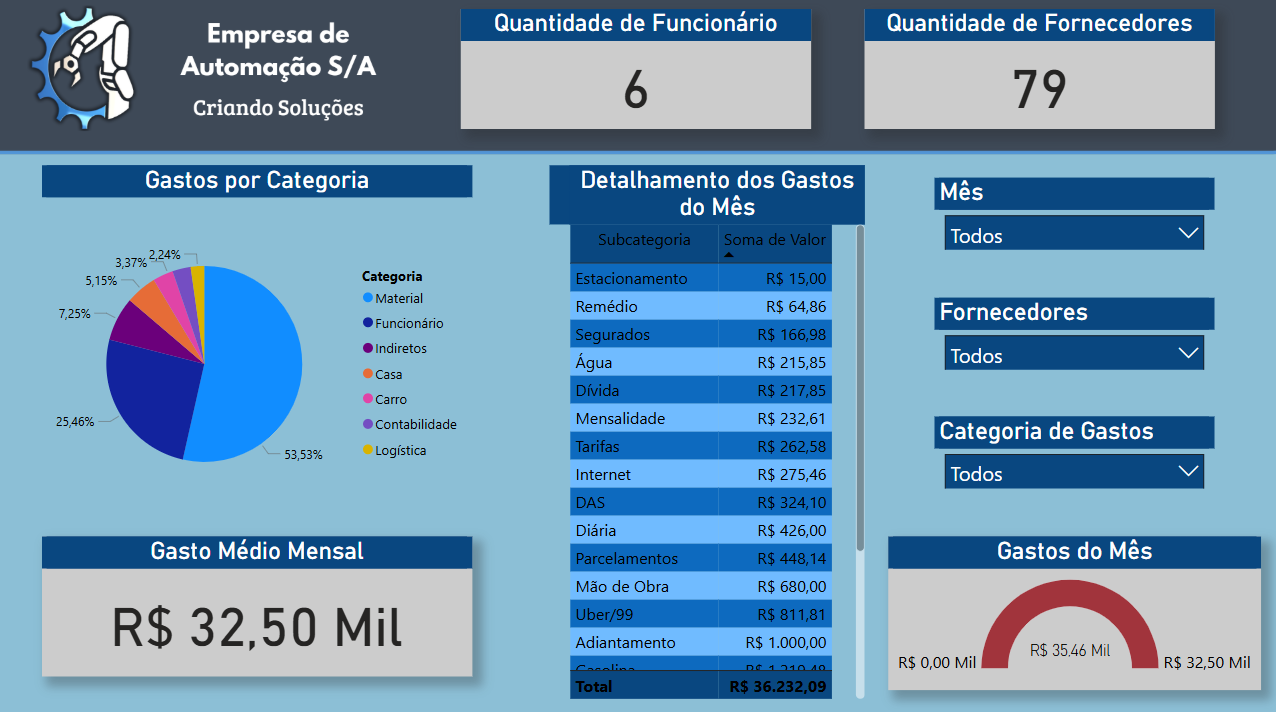

Layout of this report page (visuals, bound fields, positions):
{"tool":"powerbi","page":{"name":"Gastos","canvas":[1280,720],"ordinal":1},"visuals":[{"type":"card","title":"Gasto Médio Mensal","fields":{"Values":["Balanceamento.Média de Saídas"]},"box":[45.4,537.4,430,140],"z":0},{"type":"slicer","title":"Mês","fields":{"Values":["Geral.Mês"]},"box":[937.7,179.1,279.8,72.4],"z":1000},{"type":"pieChart","title":"Gastos por Categoria","fields":{"Category":["Gasto Mensal.Categoria"],"Y":["Gasto Mensal.Valor"]},"box":[45.4,166.9,430,370.6],"z":2000},{"type":"slicer","title":"Fornecedores","fields":{"Values":["Gasto Mensal.Fornecedor"]},"box":[937.7,298.6,279.8,72.4],"z":3000},{"type":"slicer","title":"Categoria de Gastos","fields":{"Values":["Gasto Mensal.Categoria"]},"box":[937.7,418,279.8,72.4],"z":4000},{"type":"gauge","title":"Gastos do Mês","fields":{"Y":["Balanceamento.Saídas"],"MaxValue":["Balanceamento.Média de Saídas"]},"box":[890.8,537.4,373,153.4],"z":5000},{"type":"tableEx","title":"Detalhamento dos Gastos do Mês","fields":{"Values":["Gasto Mensal.Subcategoria","Gasto Mensal.Valor"]},"box":[552.2,166.9,315.3,538.7],"z":6000},{"type":"card","title":"Quantidade de Funcionário","fields":{"Values":["Funcionários.Nome"]},"box":[464.1,10.3,350,120],"z":7000},{"type":"card","title":"Quantidade de Fornecedores","fields":{"Values":["Gasto Mensal.Fornecedor"]},"box":[867.5,9.8,350,120],"z":8000}]}

Visuals, with their boxes in screenshot pixels (x1, y1, x2, y2), scaled from the page's 1280x720 canvas onto the 1276x712 screenshot:
"Gasto Médio Mensal" card: [45, 531, 474, 670]
"Mês" slicer: [935, 177, 1214, 249]
"Gastos por Categoria" pieChart: [45, 165, 474, 532]
"Fornecedores" slicer: [935, 295, 1214, 367]
"Categoria de Gastos" slicer: [935, 413, 1214, 485]
"Gastos do Mês" gauge: [888, 531, 1260, 683]
"Detalhamento dos Gastos do Mês" tableEx: [550, 165, 865, 698]
"Quantidade de Funcionário" card: [463, 10, 812, 129]
"Quantidade de Fornecedores" card: [865, 10, 1214, 128]
